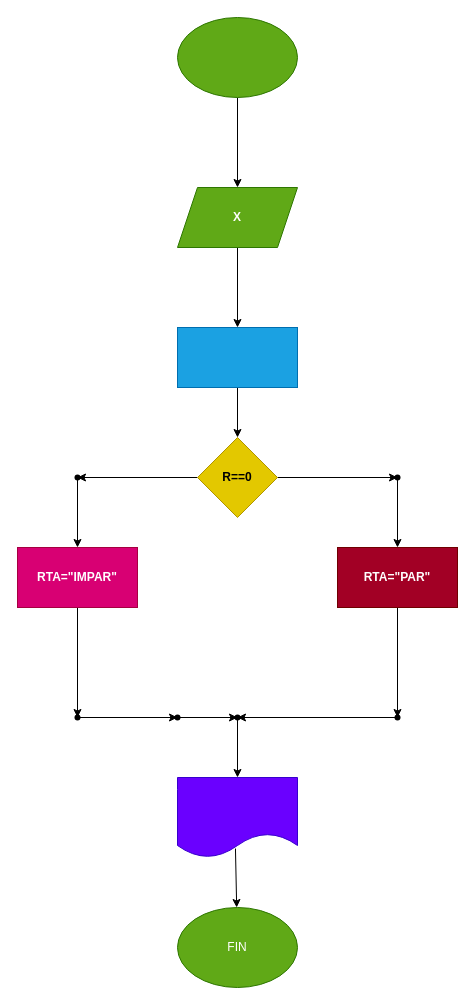
The diagram is 475 pixels wide and 1005 high, and some of its shapes have lost their labels. The shapes that lost their labels are listed below. From the top down, each one's centre as x and y in pixels, then its label:
At point (237, 57): "NICIO".
At point (237, 357): "R=X % 2".
At point (237, 817): "RTA".
